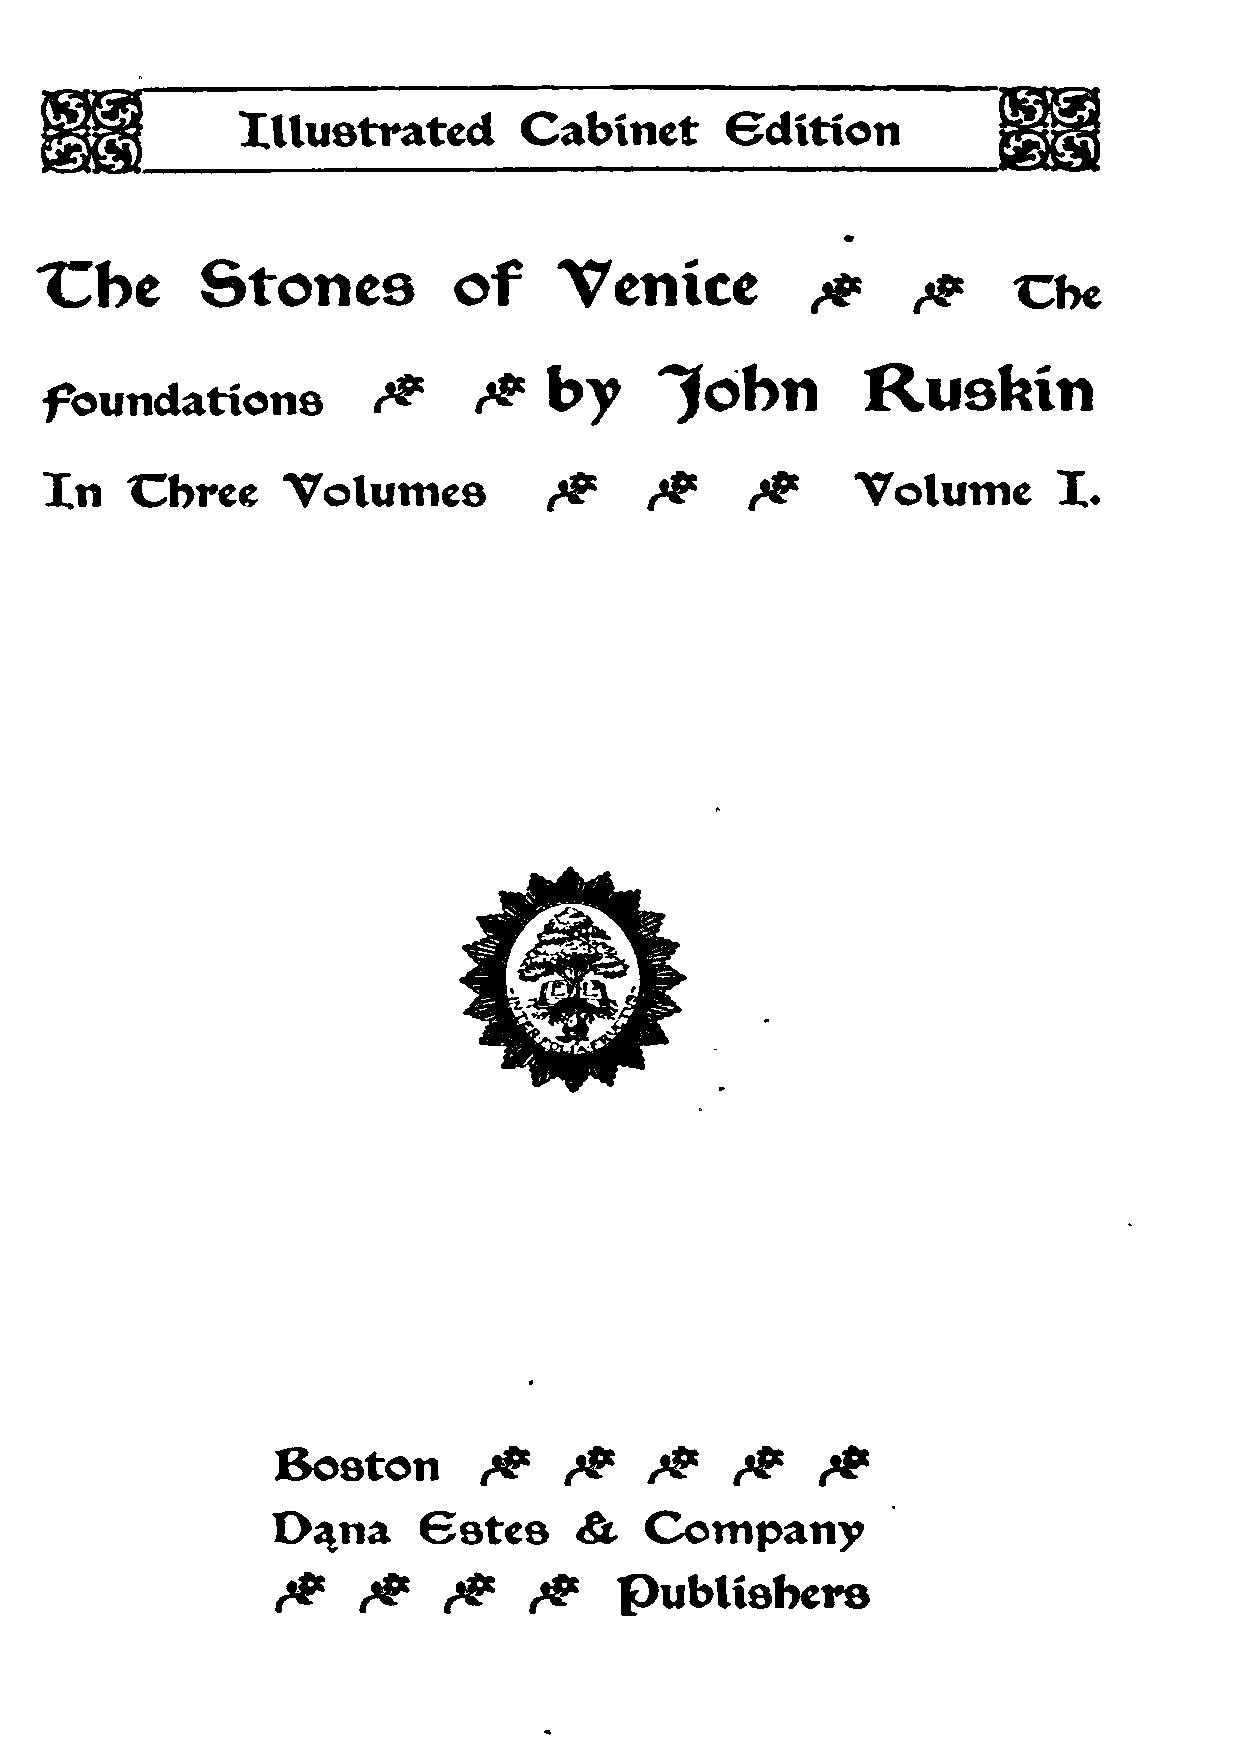title: (32, 254, 1104, 513)
